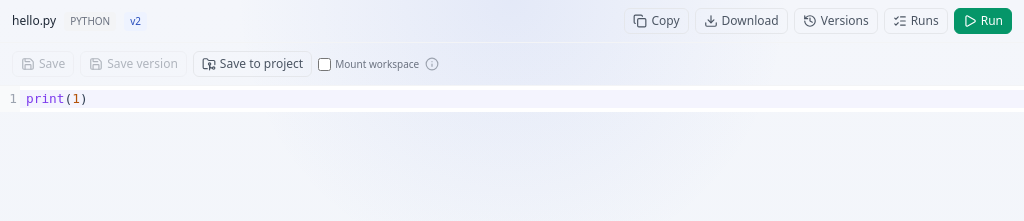
CodeWorkbench on a code view › lists the recorded runs and shows a picked one as history
Click the button "Runs". click: (916,21)
box: [884,8,948,34]
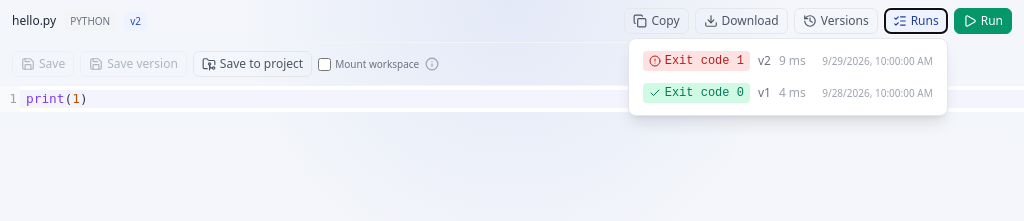
Click the button "Exit code 0 v1 4 ms 9/28/2026, 10:00:00 AM". click: (788,93)
box: [637,79,939,107]
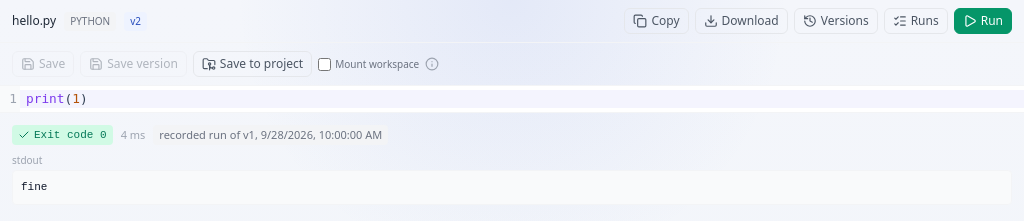
Expected: the text "fine" is shown, [12,170,1012,205]
Expected: the text with test id "recorded-run" shows "v1", [159,127,382,142]
